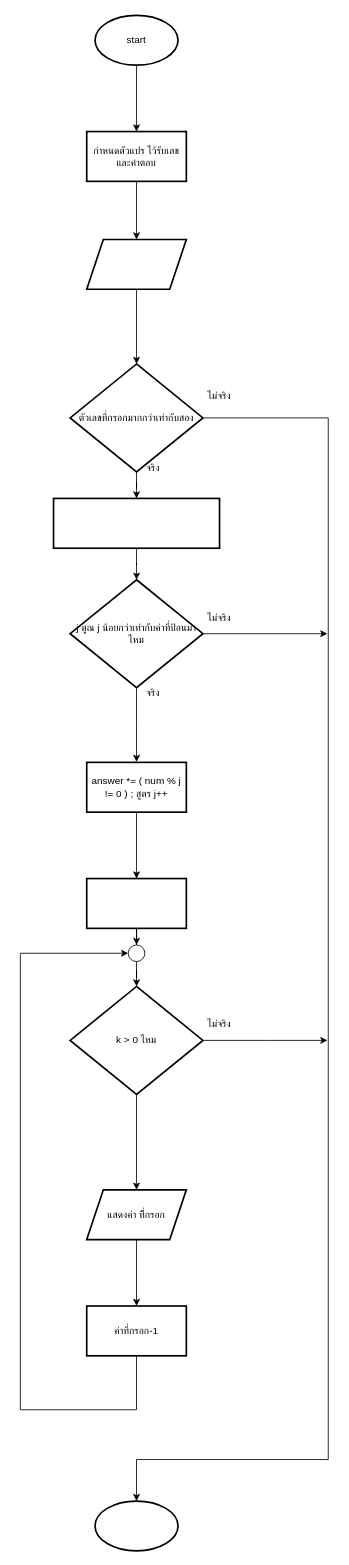
Image size: 349x1565. Some labels were removed from this diagram. The shapes that lost their labels are listed below. From the top down, each one's box as (x1, y1, x2, y2) in pixels, then its label:
(85, 238, 187, 290): รับค่าจากผู้ใช้1ค่า
(52, 497, 220, 549): กำหนดค่าตัวแปรanswer = 1 j = 2
(85, 877, 187, 929): กำหนดให้ k เอาคำตอบที่ได้มาคูณ เลขที่กรอก
(94, 1500, 178, 1551): end
